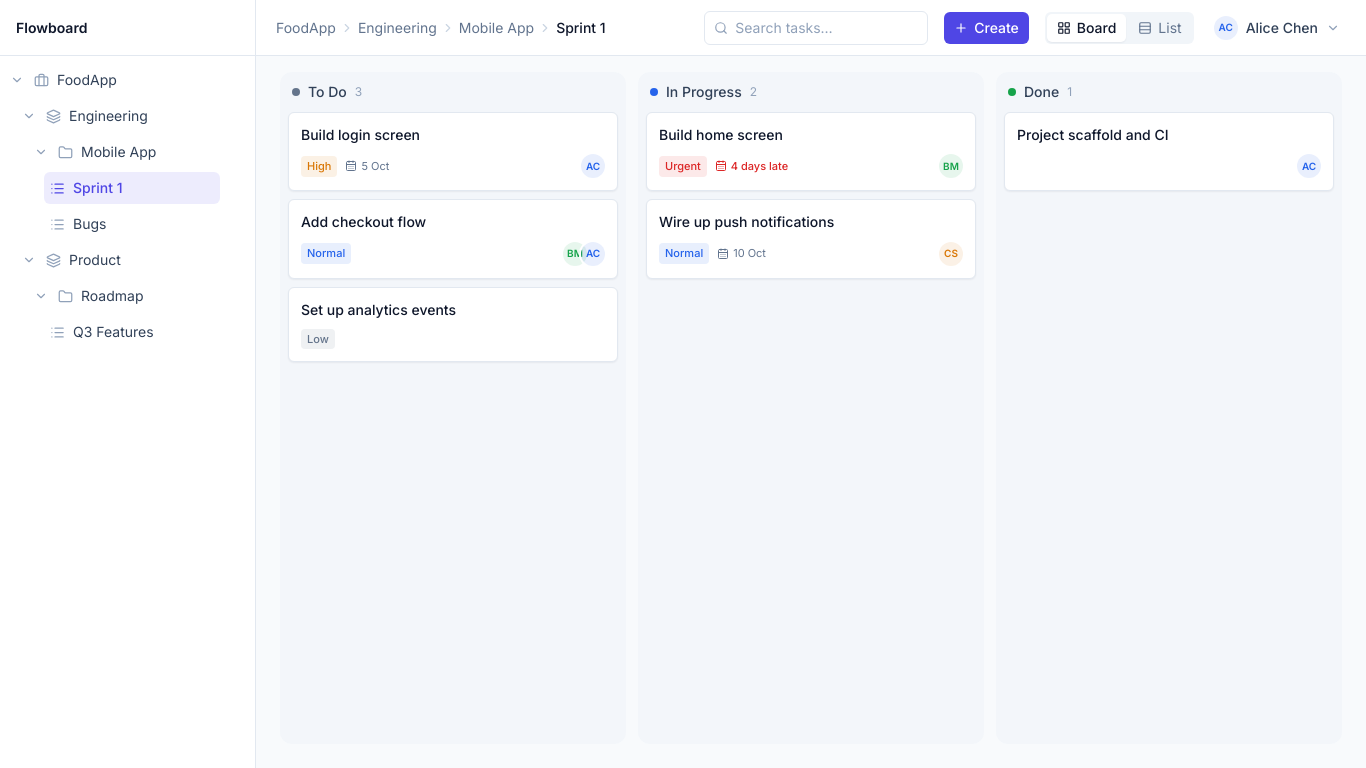
Searching tasks › searches lists other than the open one
In the dropdown labelled "Search tasks": (816, 28) x1=704 y1=10 x2=928 y2=44, type "Loyalty"
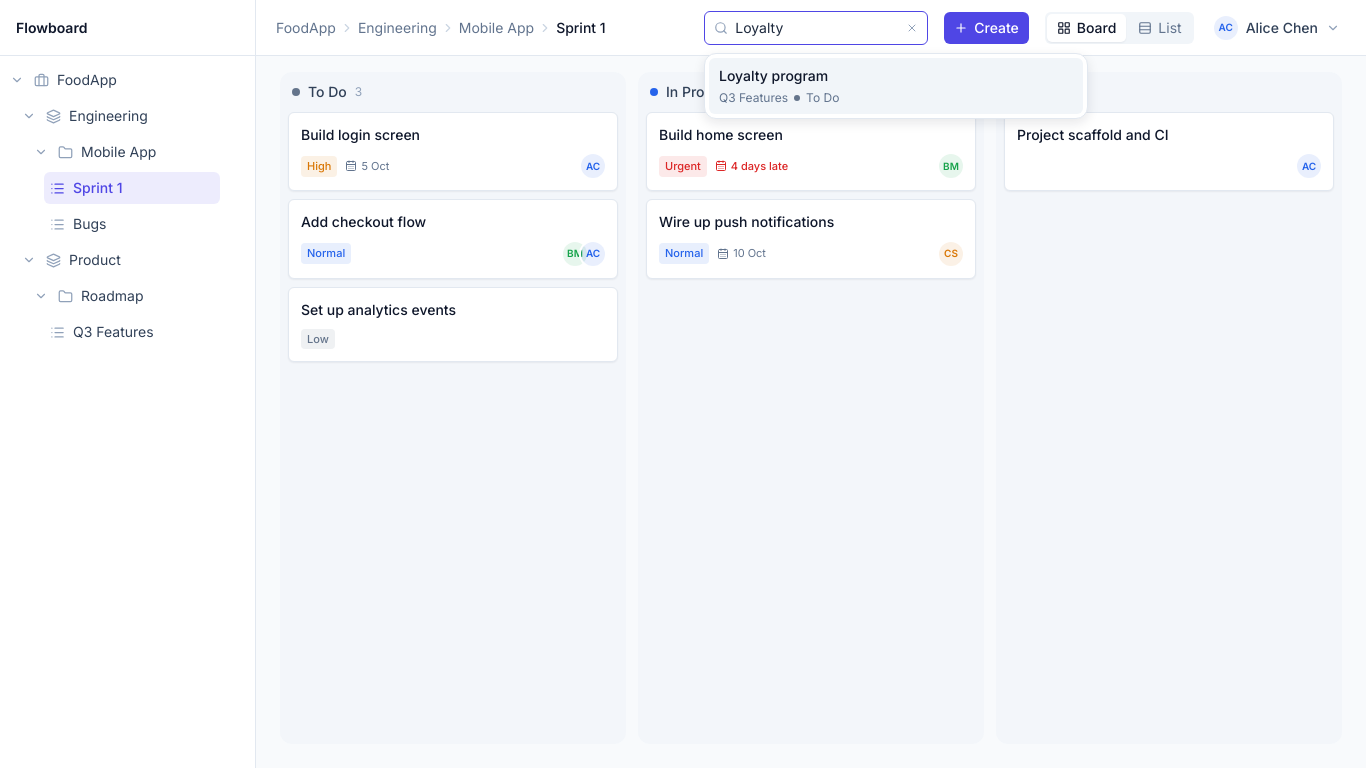
Now the option shows "Loyalty program", box x1=709 y1=58 x2=1083 y2=114
Now the option shows "Q3 Features", box x1=709 y1=58 x2=1083 y2=114
